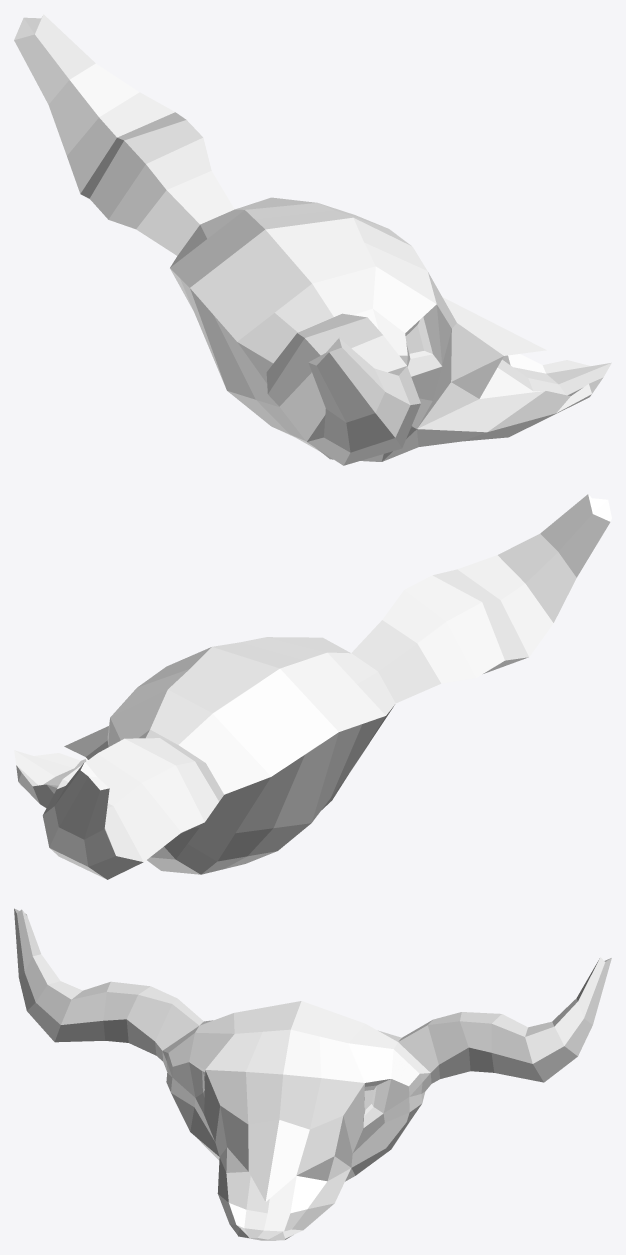
Rendered from BizonSkull.glb.
3 renders of one model, top to bottom at view 1: azimuth 30°, elevation 25°; view 2: azimuth 150°, elevation 25°; view 3: azimuth 270°, elevation 25°, orthographic. The views are drawn at different scales.
Visible parts, largest first — view 1: Bizon Skull; view 2: Bizon Skull; view 3: Bizon Skull.
Boxes of the visible parts, <box> form: Bizon Skull: <box>14,14,611,465</box>; Bizon Skull: <box>14,494,611,879</box>; Bizon Skull: <box>14,908,611,1240</box>.
Bounding box in the file's own units: 1.66 × 1.04 × 2.62.
Materials: 1 (1 with a texture image).
